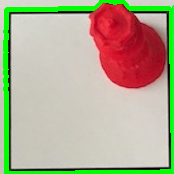Red Queen: (83, 2, 168, 92)
